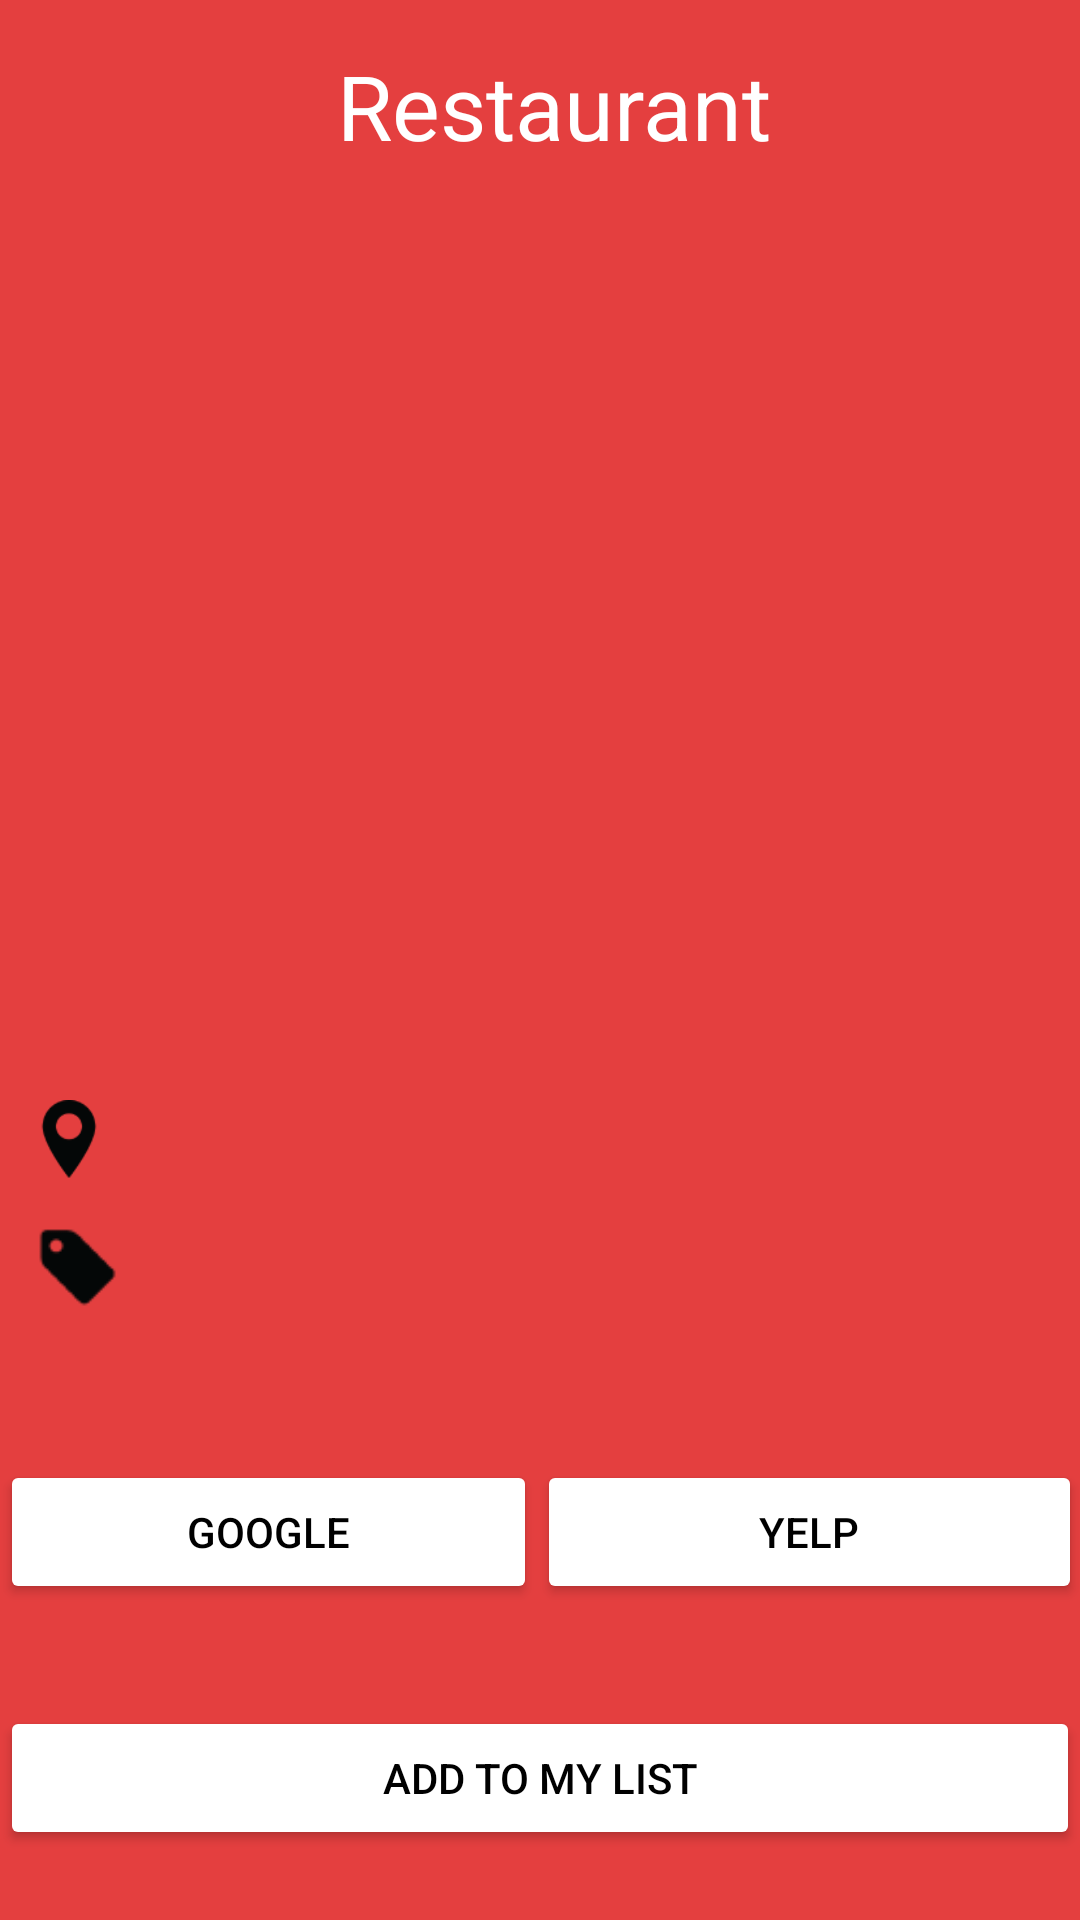

Where icons sit on this 1080×1920 app screen, as (x1, y1, x2, y2):
location: (41, 1100, 97, 1178)
tag: (39, 1229, 116, 1306)
